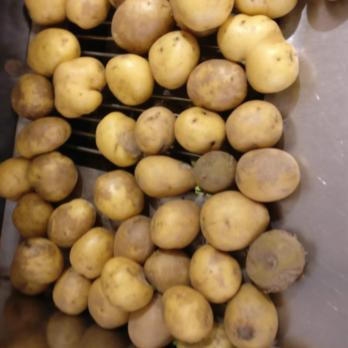Floury potato: (7, 93, 305, 344), (21, 0, 301, 93)
